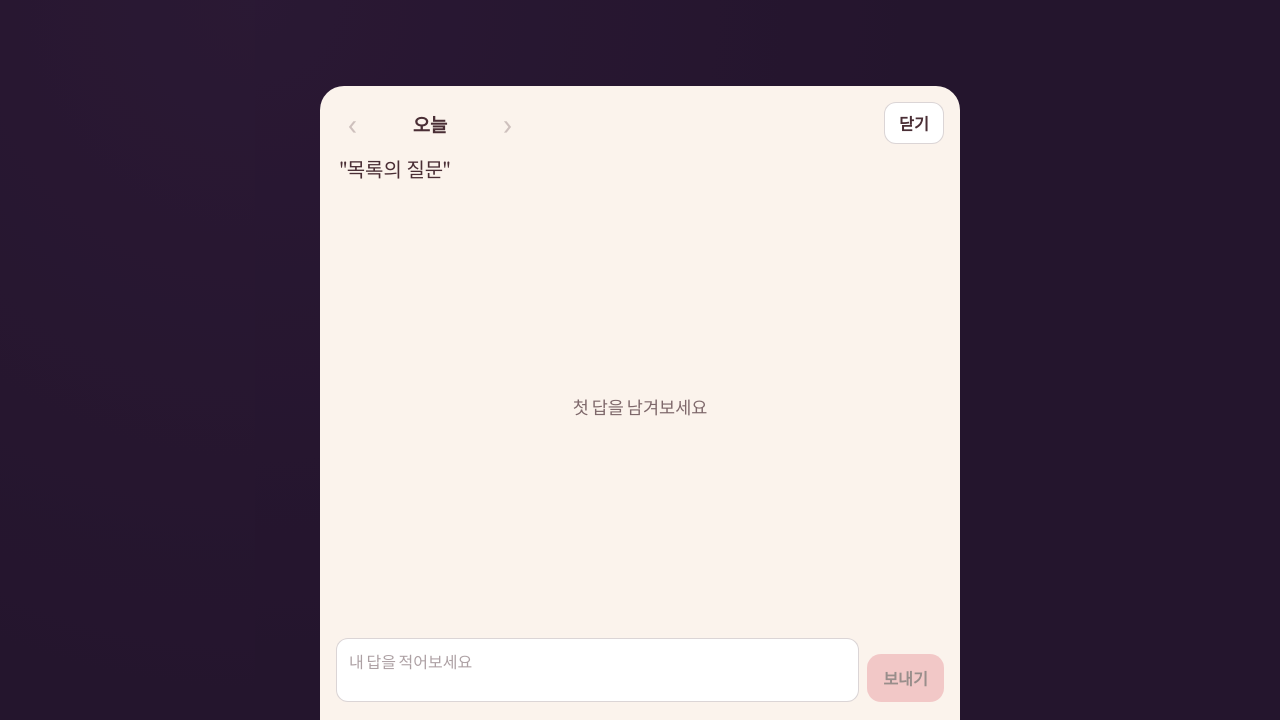
Test case: QuestionChat › keeps the text and lets me try again when sending fails
The image size is (1280, 720).
In the text box named "답 쓰기": point(598, 670) [336,638,859,702], type "답"
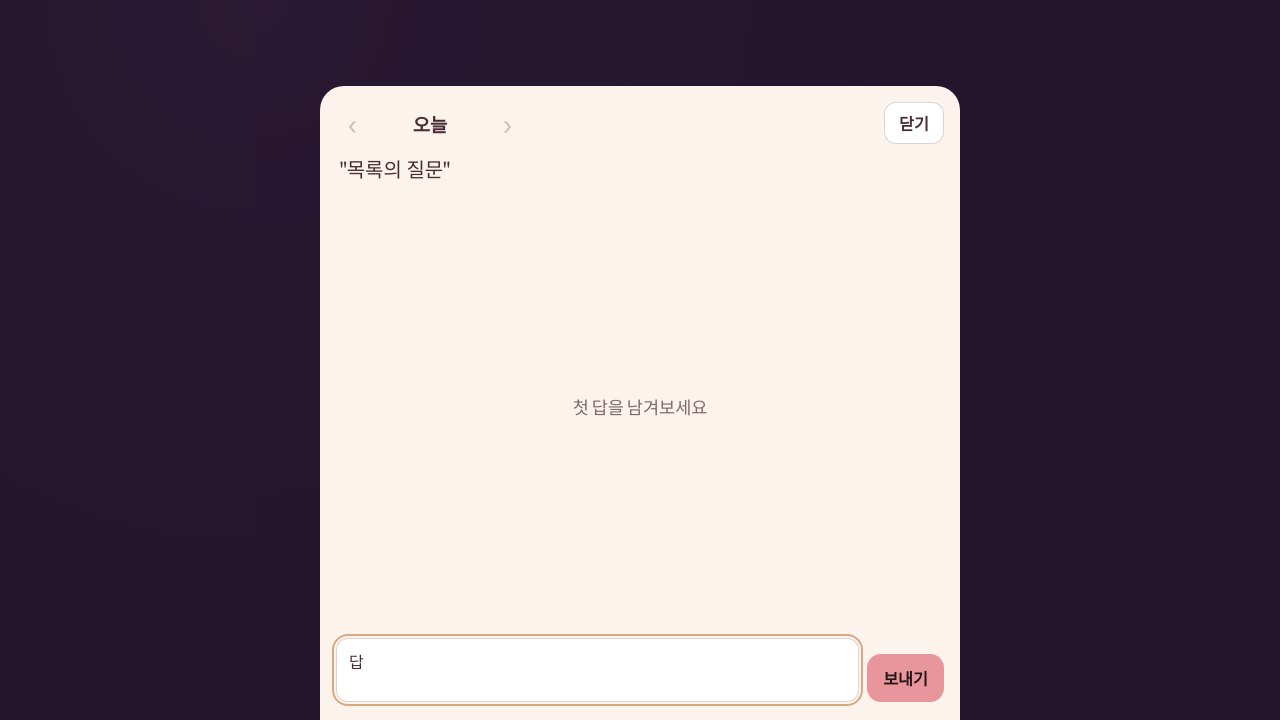
Click the button "보내기": point(906, 678) [867,654,944,702]
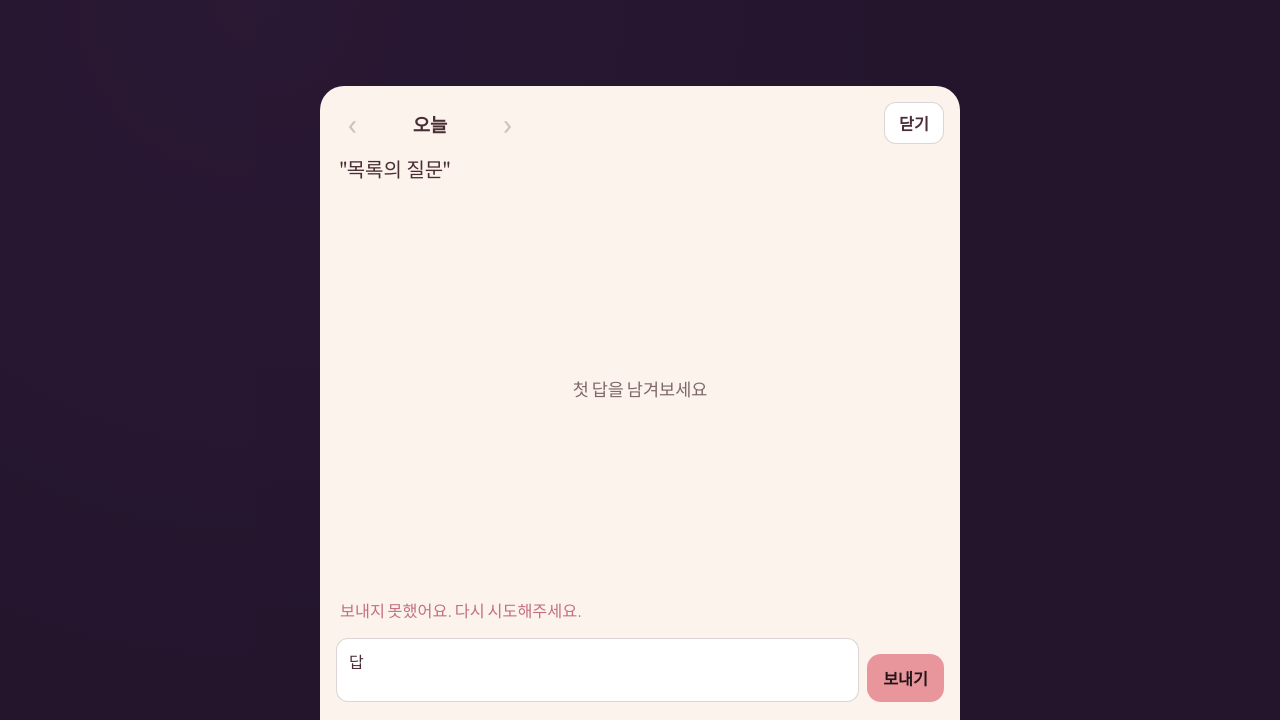
Result: the button "보내기" is enabled
Result: the text "보내지 못했어요. 다시 시도해주세요." is shown at [340,600,582,621]
Click the button "보내기": point(906, 678) [867,654,944,702]
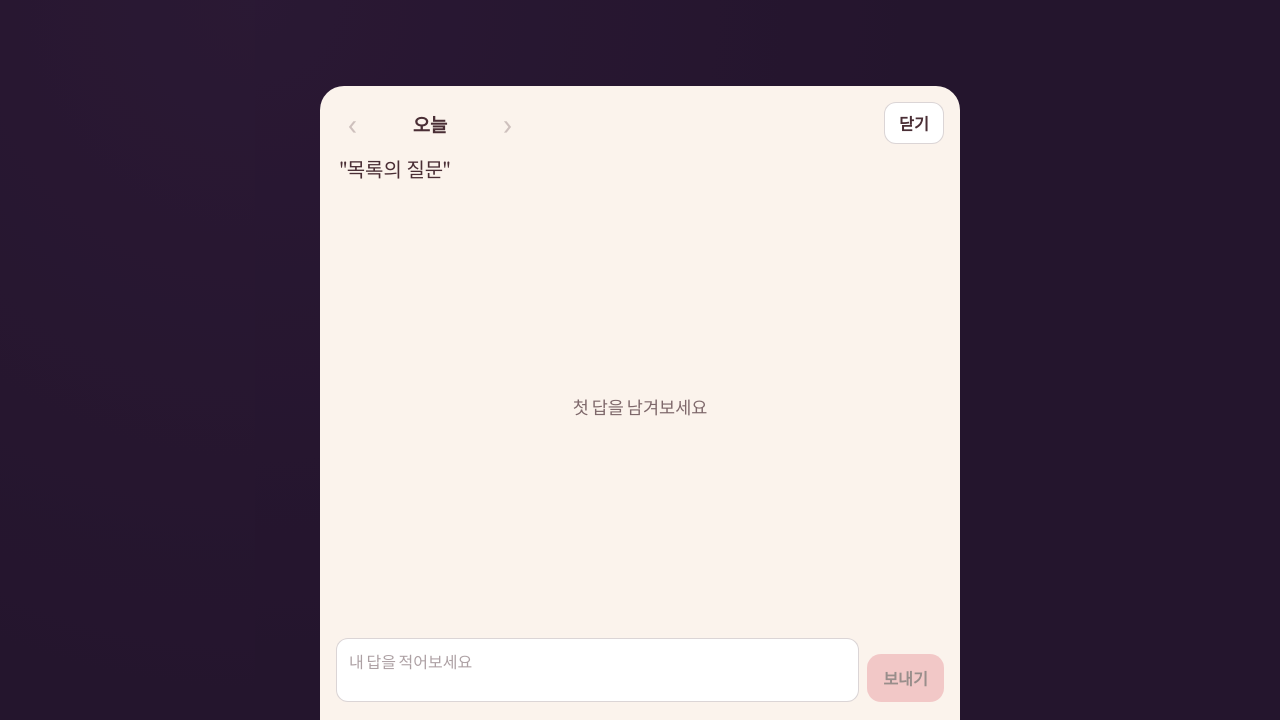
Result: the text "보내지 못했어요. 다시 시도해주세요." is gone
Result: the text box named "답 쓰기" is empty at [336,638,859,702]
